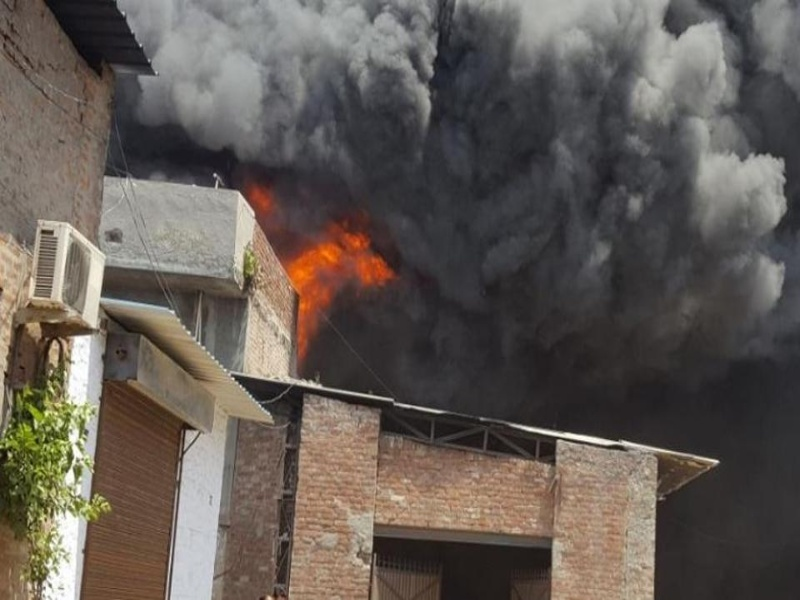smoke: (307, 1, 799, 357)
